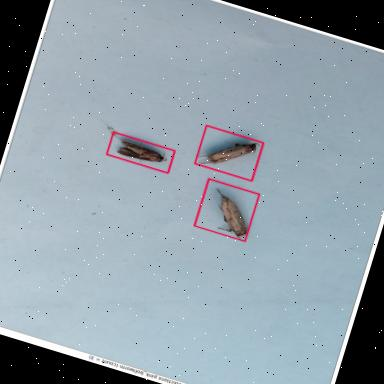pbw: (46, 0, 76, 18)
